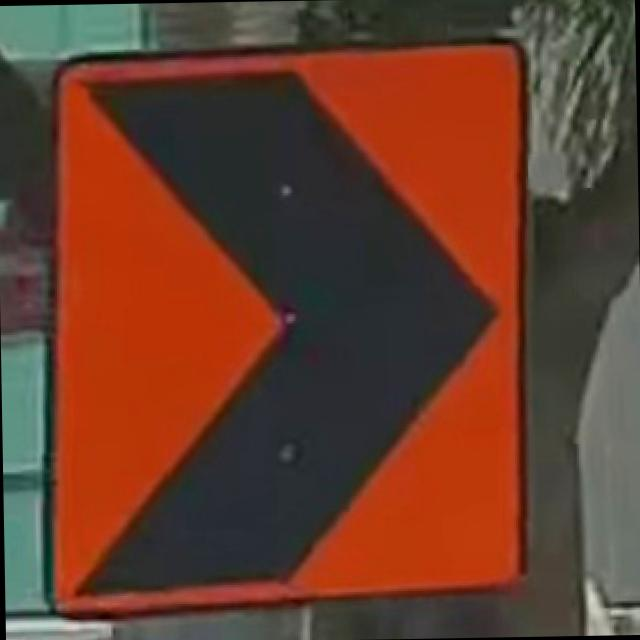curveright_sign: (39, 35, 538, 615)
